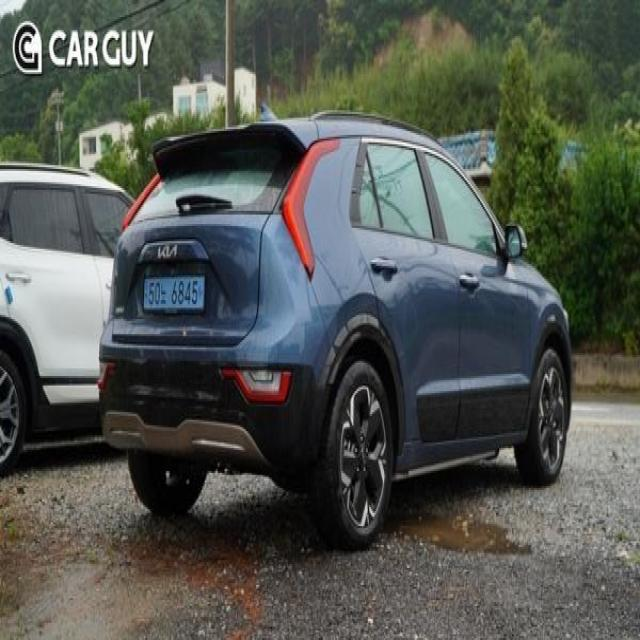EV_plate: (143, 273, 207, 319)
car: (96, 110, 574, 541)
